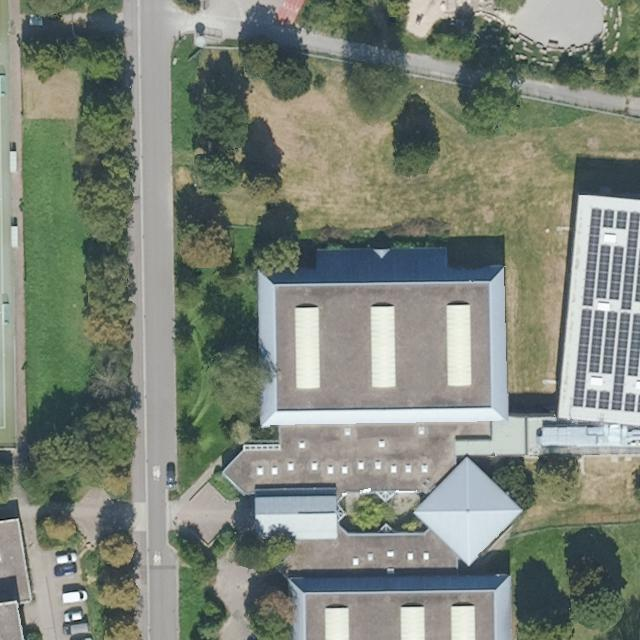PV: (568, 206, 638, 416)
